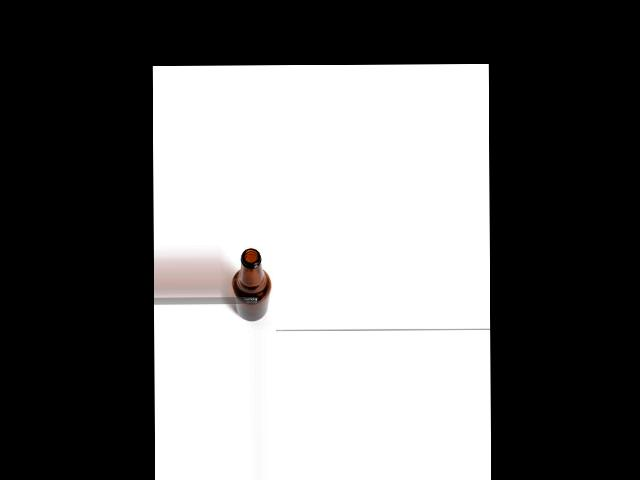beer: (231, 248, 270, 321)
